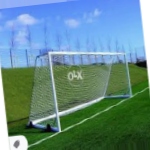goals: (26, 48, 132, 130)
